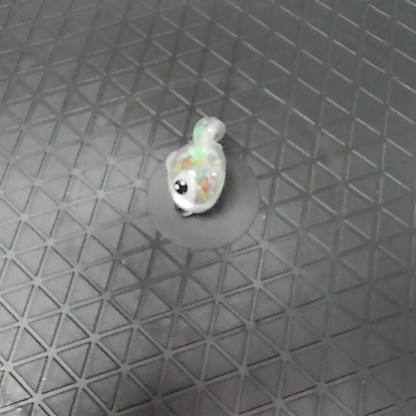whitefish: (161, 114, 227, 220)
